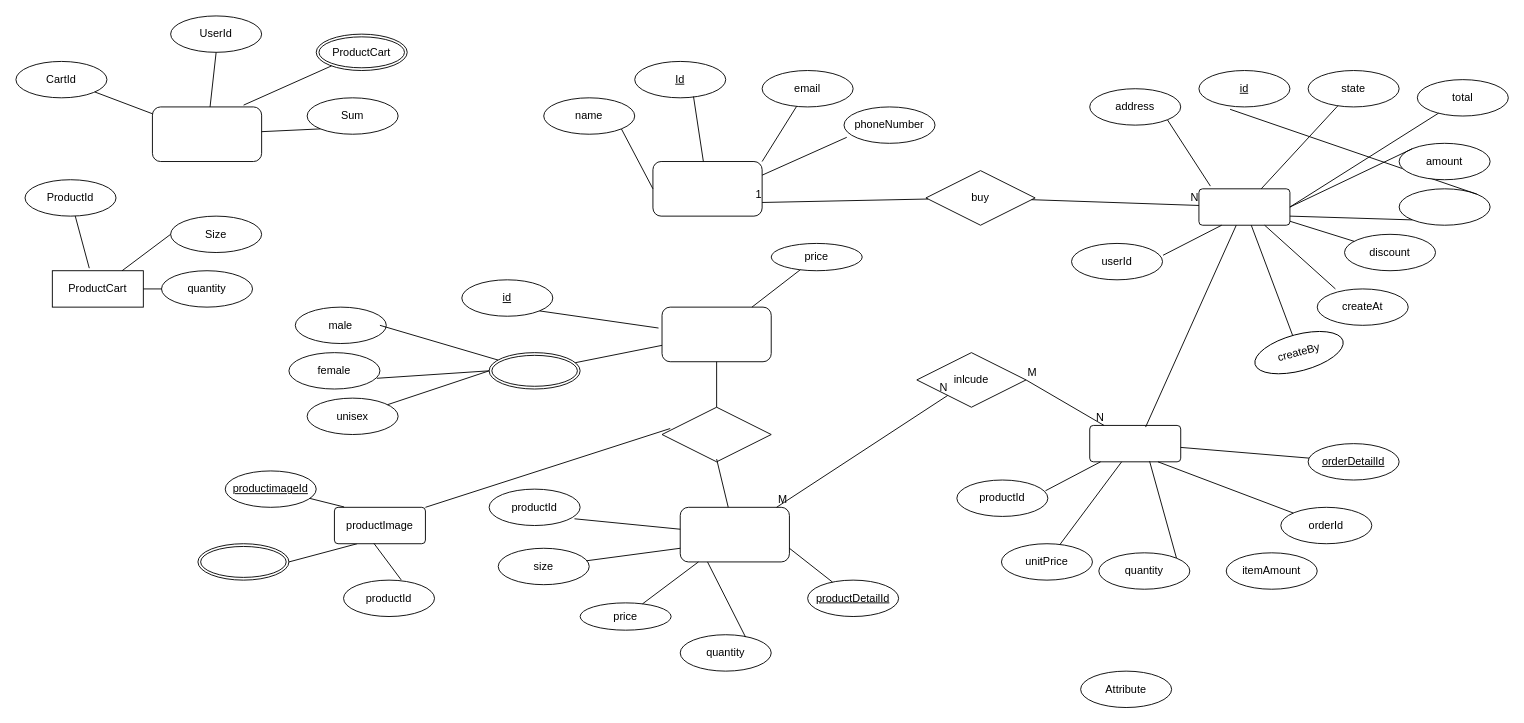
This 1524x723 diagram has some shape labels left out. The shapes that lost their labels are listed below. From the top down, each one's centre as x and y in pixels, then its label:
At (x=207, y=134): "Cart".
At (x=707, y=188): "User".
At (x=1244, y=206): "order".
At (x=1444, y=206): "shipping".
At (x=716, y=334): "Product".
At (x=534, y=370): "category".
At (x=716, y=434): "has".
At (x=1135, y=443): "orderDetail".
At (x=734, y=534): "ProductDetail".
At (x=243, y=561): "image".
